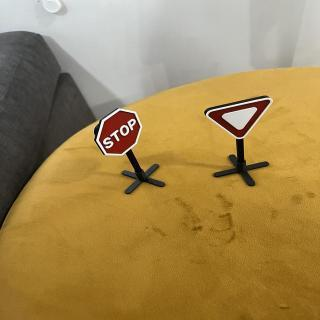sign_stop: (94, 107, 145, 158)
sign_yield: (206, 96, 276, 141)
